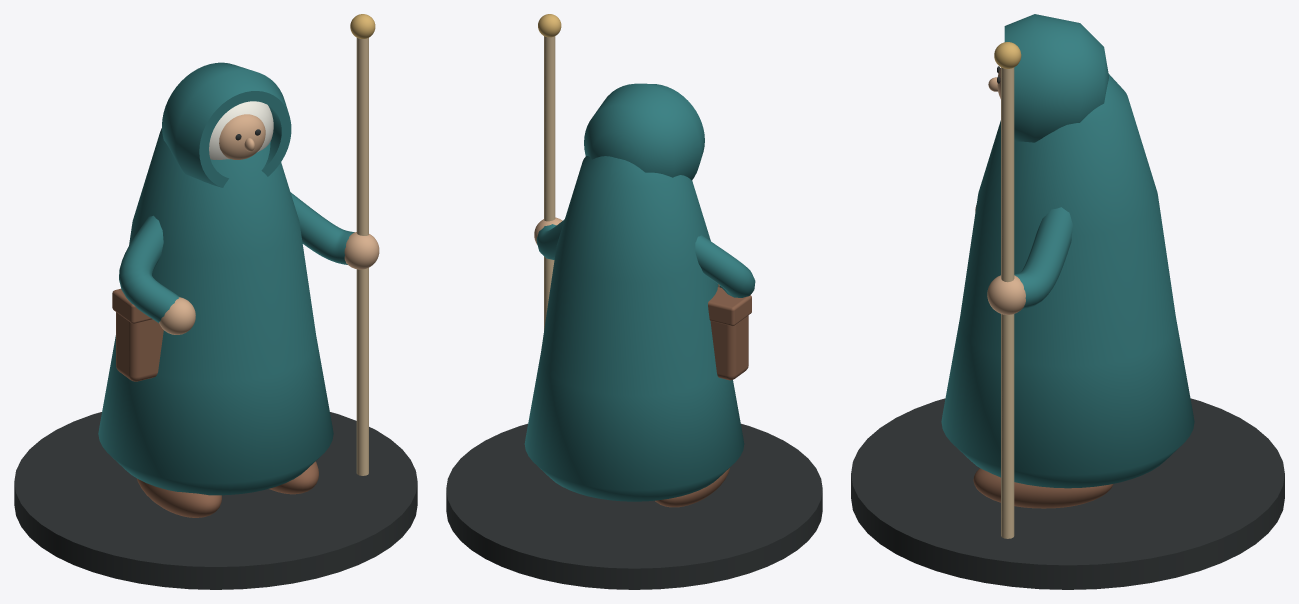
Rendered from tabletop-hobby-store-and-club-cloaked-surveyor-miniatu-b2d7c668__31606.glb.
3 views of the same model, side by side, from view 1: azimuth 30°, elevation 25°; view 2: azimuth 150°, elevation 25°; view 3: azimuth 270°, elevation 25° (orthographic). The views are drawn at different scales.
Parts seen in each view (by area): view 1: cloaked-surveyor-miniature; view 2: cloaked-surveyor-miniature; view 3: cloaked-surveyor-miniature.
Part boxes in pixels (x1,y1,x2,y2): cloaked-surveyor-miniature: (14,14,417,589); cloaked-surveyor-miniature: (446,14,822,589); cloaked-surveyor-miniature: (851,14,1284,589).
Bounding box in the file's own units: 0.0461 × 0.0606 × 0.0461.
